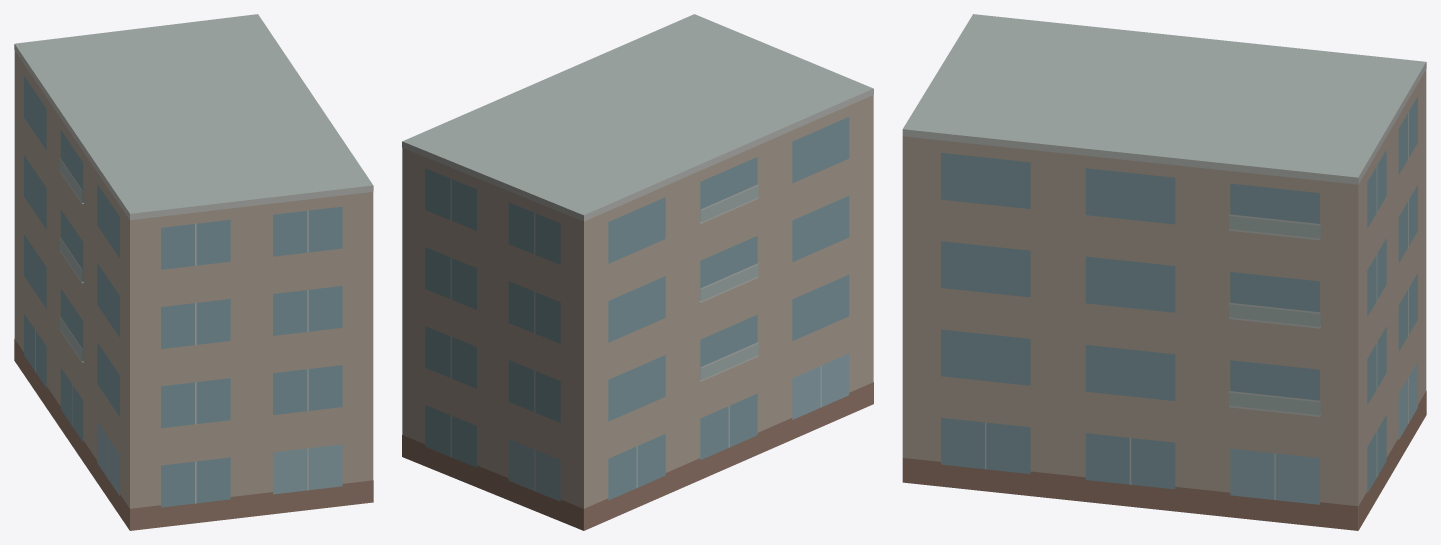
The model's file is survey-upis-32702461.glb.
The picture shows the model from 3 angles, left to right: view 1: azimuth 30°, elevation 25°; view 2: azimuth 150°, elevation 25°; view 3: azimuth 270°, elevation 25°; orthographic projection. The views are drawn at different scales.
Visible parts, largest first — view 1: survey-upis-32702461.tmp; view 2: survey-upis-32702461.tmp; view 3: survey-upis-32702461.tmp.
Boxes of the visible parts, x1=… form: survey-upis-32702461.tmp: x1=14, y1=14, x2=373, y2=530; survey-upis-32702461.tmp: x1=402, y1=14, x2=873, y2=530; survey-upis-32702461.tmp: x1=902, y1=14, x2=1426, y2=530.
Size of the model in its own units: 12.13 by 12.2 by 16.41.
